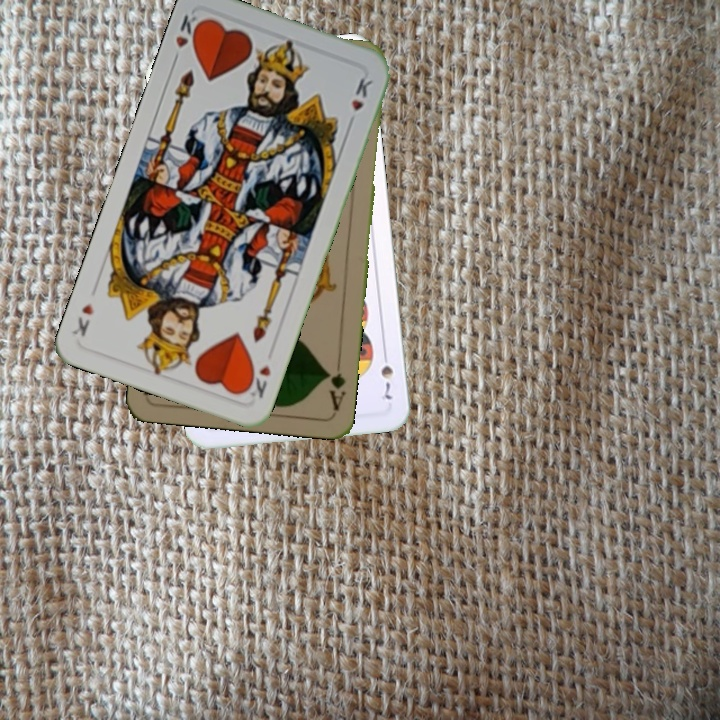GA: (322, 354, 348, 413)
HK: (168, 9, 206, 66), (241, 361, 274, 401)
S7: (376, 346, 396, 402)
